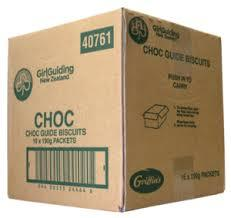Cardboard: (2, 5, 231, 218)
